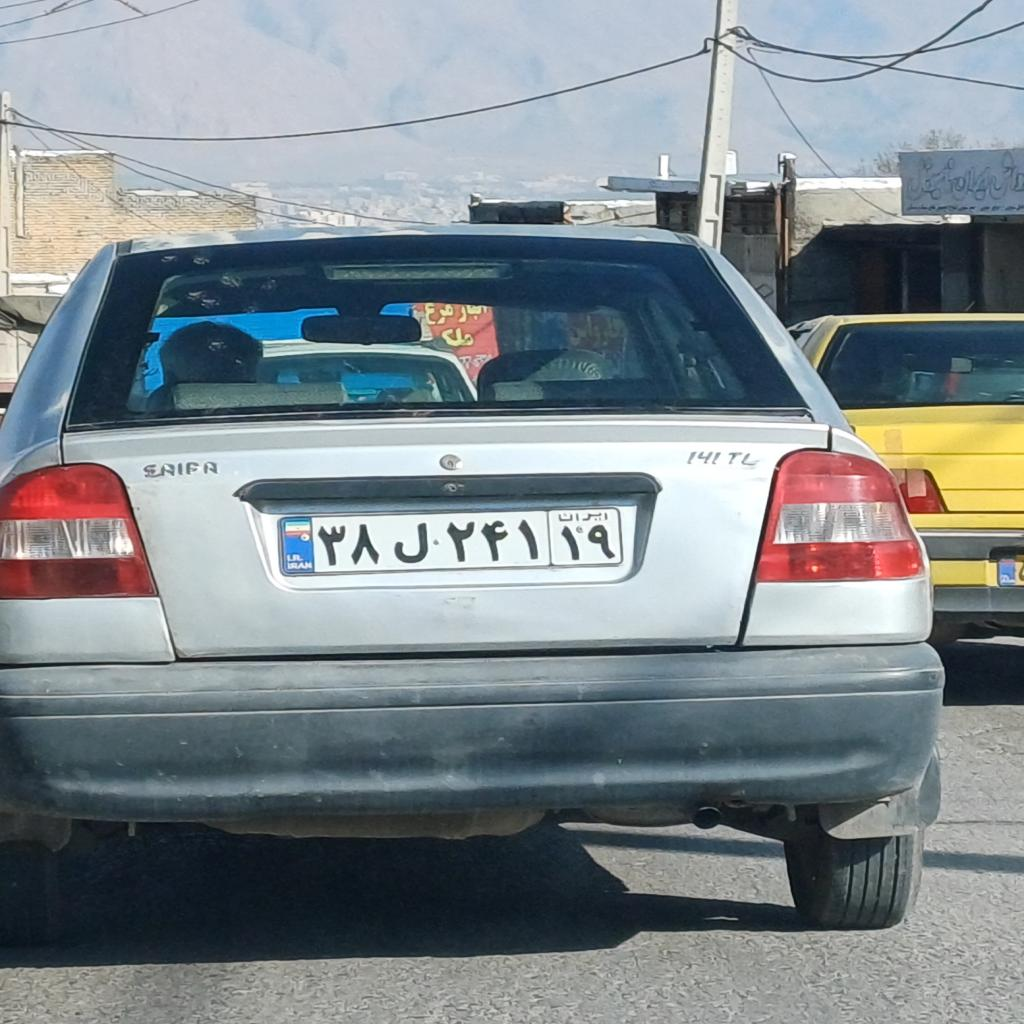Plates: (280, 506, 622, 574)
